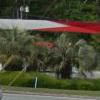Tree: (10, 25, 88, 78)
